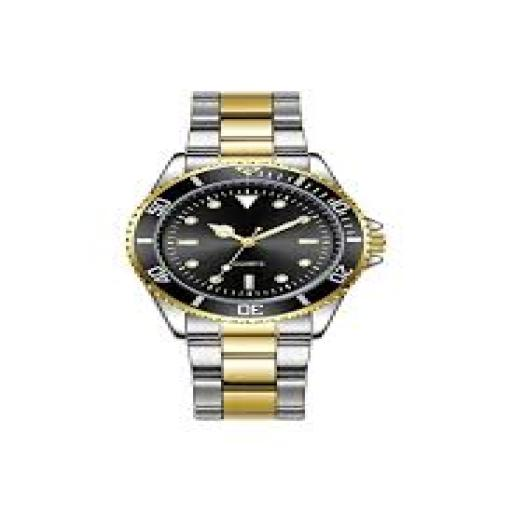KolSaati: (110, 71, 402, 442)
